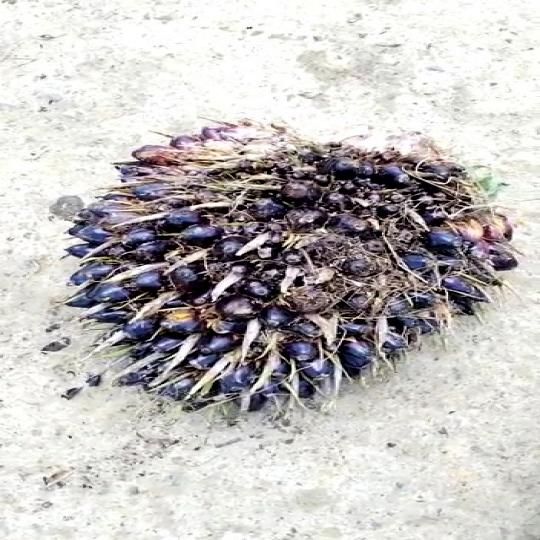mentah: (56, 126, 518, 411)
